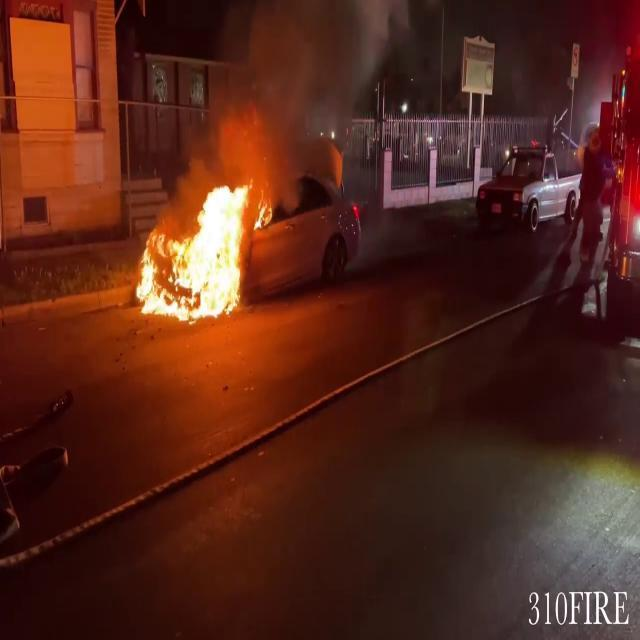Fire: (132, 172, 266, 322)
Smoke: (202, 0, 384, 162)
